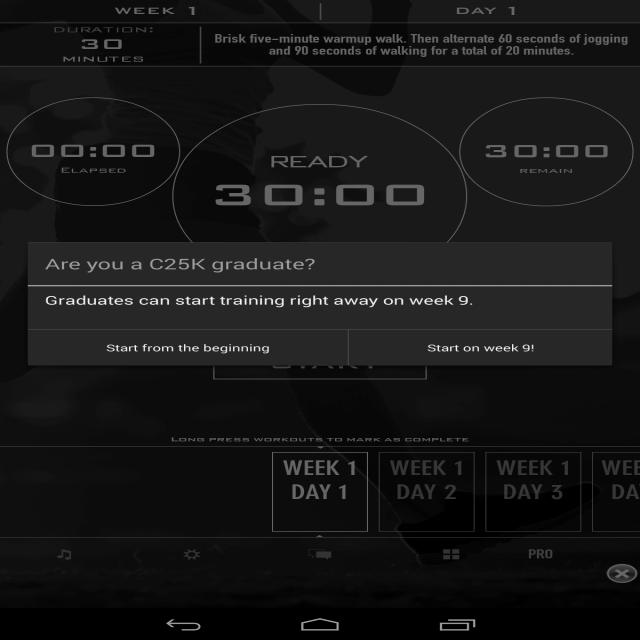ImageButton: (597, 560, 638, 584)
TextView: (207, 30, 632, 60), (39, 293, 492, 312), (196, 182, 445, 212), (38, 254, 333, 276), (281, 452, 367, 509), (490, 456, 576, 507), (256, 140, 380, 169), (99, 341, 290, 357), (440, 1, 536, 22), (108, 4, 214, 20), (421, 340, 542, 354)
